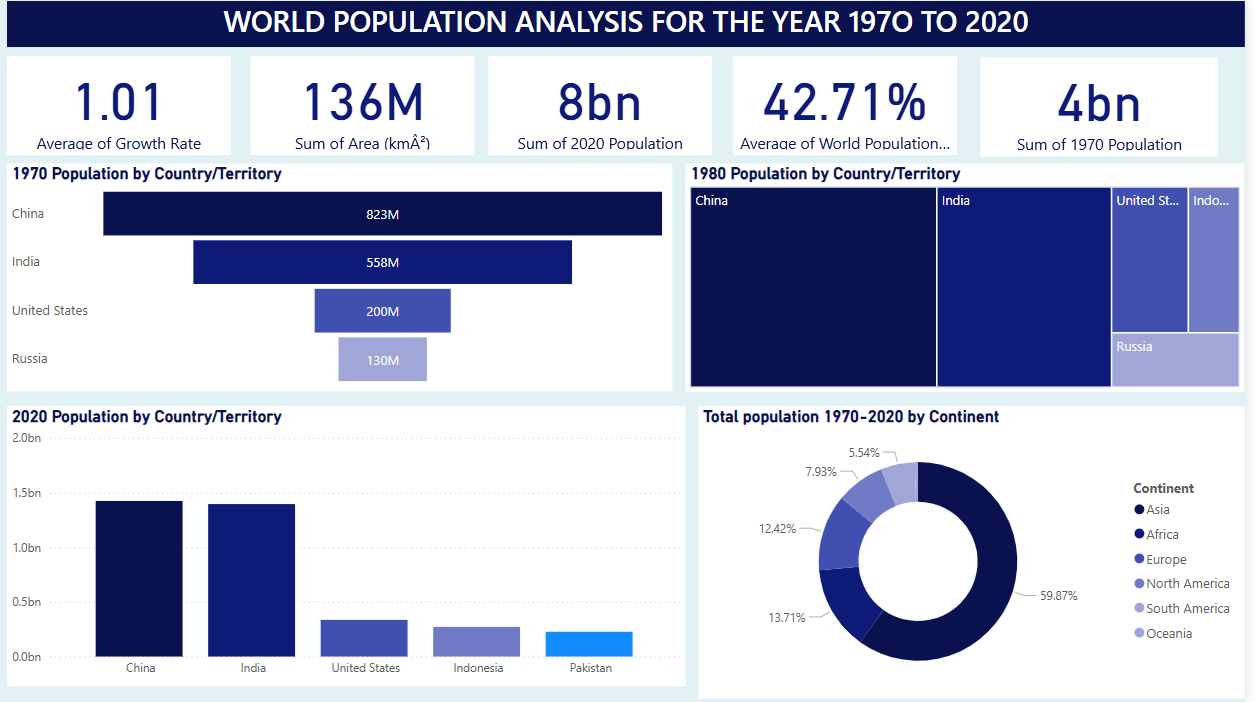

What the dashboard file says about the page in this screenshot:
{"tool":"powerbi","page":{"name":"DASHBOARD","canvas":[1280,720],"ordinal":0},"visuals":[{"type":"textbox","title":"WORLD POPULATION  ANALYSIS FOR THE YEAR 197O TO 2020","box":[10.3,0,1269.2,47.4],"z":0},{"type":"treemap","title":"1980 Population by Country/Territory","fields":{"Group":["Sheet1.Country/Territory"],"Values":["Sum(Sheet1.1980 Population)"]},"box":[706.4,166.7,573.1,234.6],"z":1000},{"type":"funnel","title":"1970 Population by Country/Territory","fields":{"Category":["Sheet1.Country/Territory"],"Y":["Sum(Sheet1.1970 Population)"]},"box":[10.3,166.7,682.1,233.3],"z":2000},{"type":"columnChart","title":" 2020 Population by Country/Territory","fields":{"Category":["Sheet1.Country/Territory"],"Y":["Sum(Sheet1.2020 Population)"]},"box":[10.3,415.4,696.2,287.2],"z":3000},{"type":"donutChart","title":"Total population 1970-2020 by Continent","fields":{"Y":["Sum(Sheet1.Total population 1970-2020)"],"Category":["Sheet1.Continent"]},"box":[719.2,415.4,560.3,300],"z":4000},{"type":"card","fields":{"Values":["Avg(Sheet1.Growth Rate)"]},"box":[10.3,56.4,229.5,101.3],"z":5000},{"type":"card","fields":{"Values":["Sum(Sheet1.2020 Population)"]},"box":[503.8,56.4,229.5,101.3],"z":6000},{"type":"card","fields":{"Values":["Sum(Sheet1.Area (kmÂ²))"]},"box":[260.3,56.4,229.5,101.3],"z":7000},{"type":"card","fields":{"Values":["Sum(Sheet1.1970 Population)"]},"box":[1009,57.7,243.6,101.3],"z":8000},{"type":"card","fields":{"Values":["Avg(Sheet1.World Population Percentage)"]},"box":[755.1,56.4,229.5,101.3],"z":9000}]}

Visuals, with their boxes in screenshot pixels (x1, y1, x2, y2), scaled from the page's 1280x720 canvas onto the 1257x702 screenshot:
"WORLD POPULATION  ANALYSIS FOR THE YEAR 197O TO 2020" textbox: rect(10, 0, 1256, 46)
"1980 Population by Country/Territory" treemap: rect(694, 163, 1256, 391)
"1970 Population by Country/Territory" funnel: rect(10, 163, 680, 390)
" 2020 Population by Country/Territory" columnChart: rect(10, 405, 694, 685)
"Total population 1970-2020 by Continent" donutChart: rect(706, 405, 1256, 698)
card - Avg(Sheet1.Growth Rate): rect(10, 55, 235, 154)
card - Sum(Sheet1.2020 Population): rect(495, 55, 720, 154)
card - Sum(Sheet1.Area (kmÂ²)): rect(256, 55, 481, 154)
card - Sum(Sheet1.1970 Population): rect(991, 56, 1230, 155)
card - Avg(Sheet1.World Population Percentage): rect(742, 55, 967, 154)
